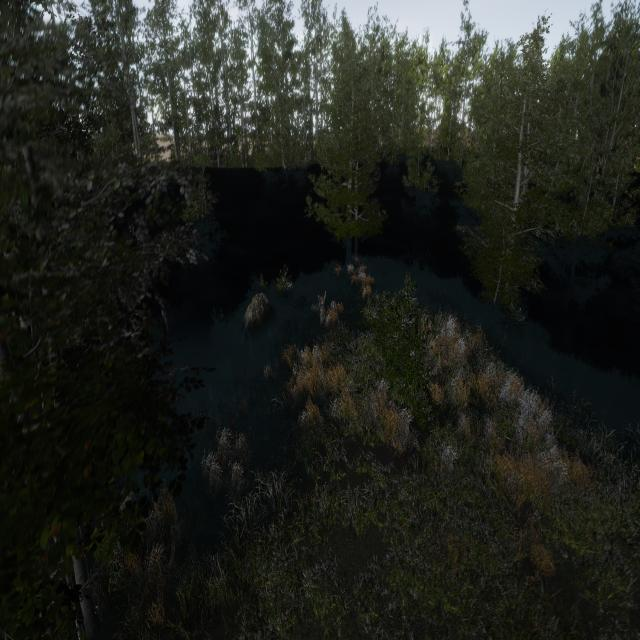Human: (312, 286, 329, 332)
